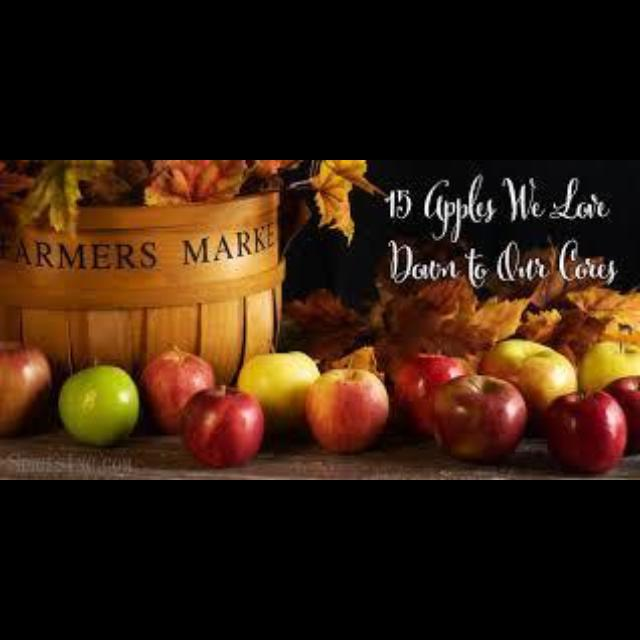apple: (433, 375, 525, 462), (479, 339, 576, 418), (306, 367, 388, 452), (543, 389, 626, 472), (179, 385, 264, 466), (237, 351, 318, 432), (139, 347, 213, 434), (58, 365, 139, 444), (392, 353, 467, 436), (0, 339, 50, 436), (578, 341, 638, 391), (606, 375, 638, 450)
